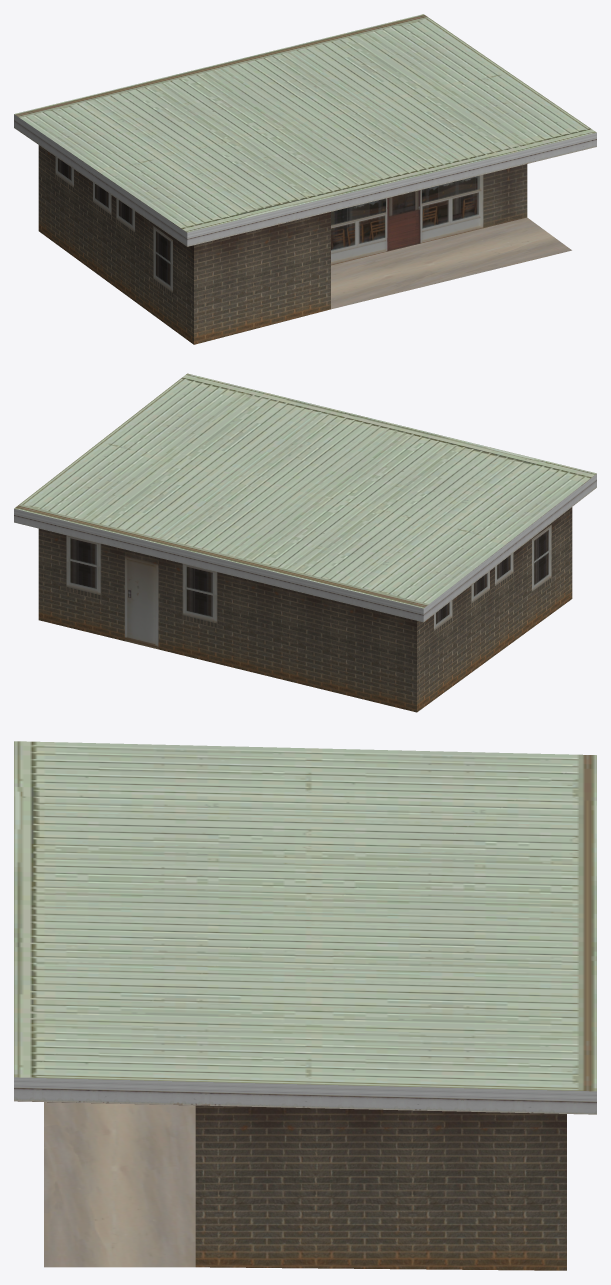
The model's file is terminal-tiny-03-10x7-cbj_LOD01.gltf.
The picture shows the model from 3 angles, top to bottom: view 1: azimuth 30°, elevation 25°; view 2: azimuth 150°, elevation 25°; view 3: azimuth 270°, elevation 25°; orthographic projection. The views are drawn at different scales.
Parts seen in each view (by area): view 1: Sketchup01; view 2: Sketchup01; view 3: Sketchup01.
Part boxes in pixels (bbox=[...]): Sketchup01: bbox=[14, 14, 596, 344]; Sketchup01: bbox=[14, 373, 596, 712]; Sketchup01: bbox=[14, 741, 596, 1270].
Size of the model in its own units: 10.5 by 3 by 7.7.
